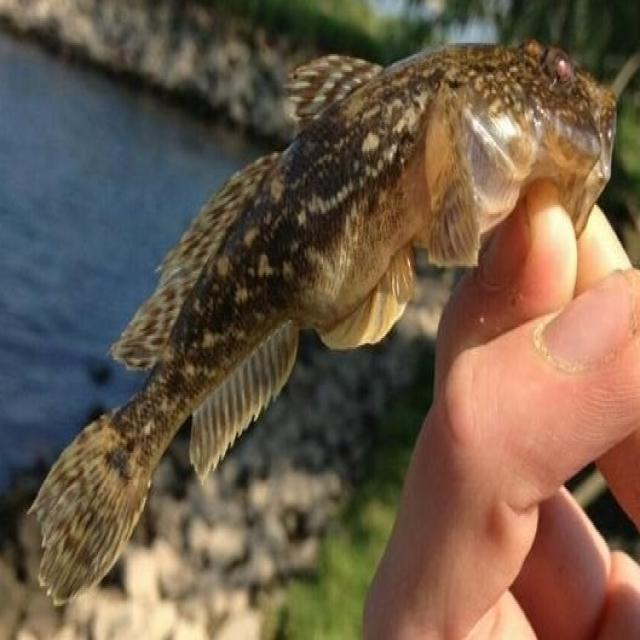Goby: (9, 11, 612, 622)
